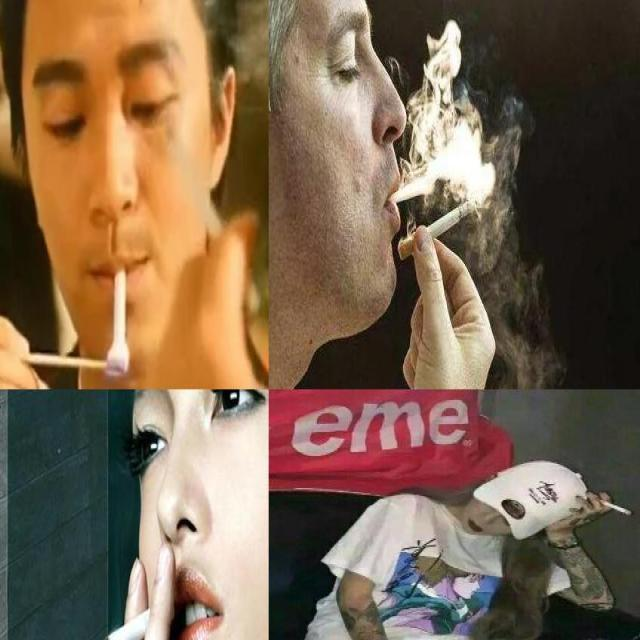smoking: (84, 596, 185, 639), (399, 204, 466, 260), (112, 266, 128, 349), (594, 497, 630, 515)
